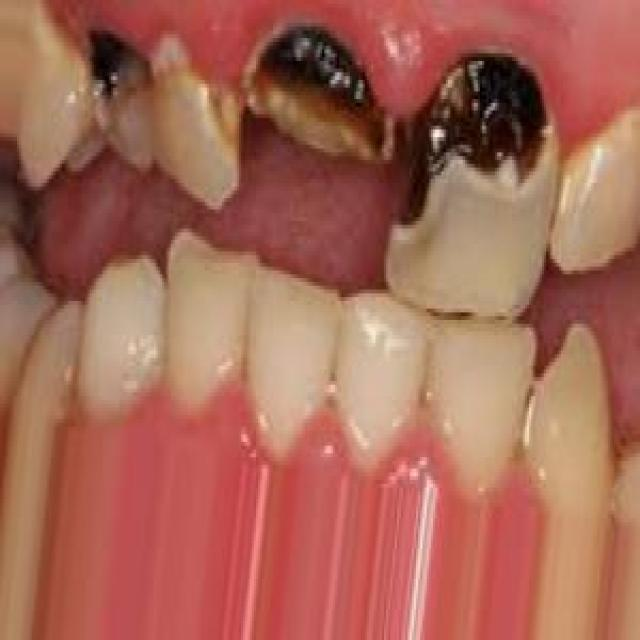caries: (389, 36, 557, 266), (233, 13, 398, 185), (79, 20, 150, 174)
